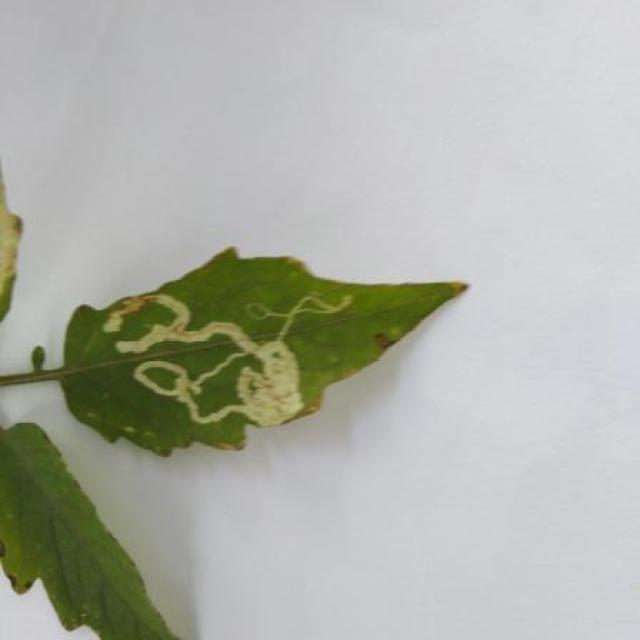Leaf Miner: (61, 246, 468, 451)
